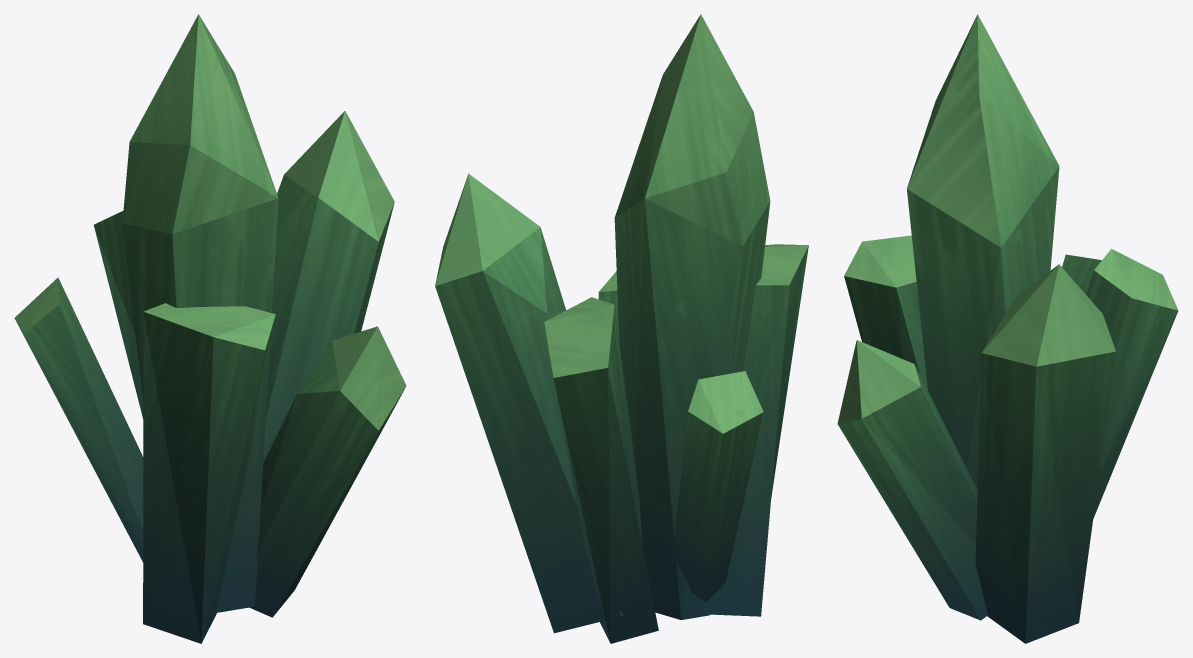
Rendered from Crystal2.fbx.
3 views of the same model, side by side, from view 1: azimuth 30°, elevation 25°; view 2: azimuth 150°, elevation 25°; view 3: azimuth 270°, elevation 25° (orthographic). The views are drawn at different scales.
Visible parts, largest first — view 1: polySurface34; view 2: polySurface34; view 3: polySurface34.
Boxes of the visible parts, <box> form: polySurface34: <box>14,14,406,643</box>; polySurface34: <box>435,14,808,643</box>; polySurface34: <box>837,14,1178,643</box>.
Size of the model in its own units: 0.729 by 1.24 by 0.6656.
Materials: 1 (1 with a texture image).
